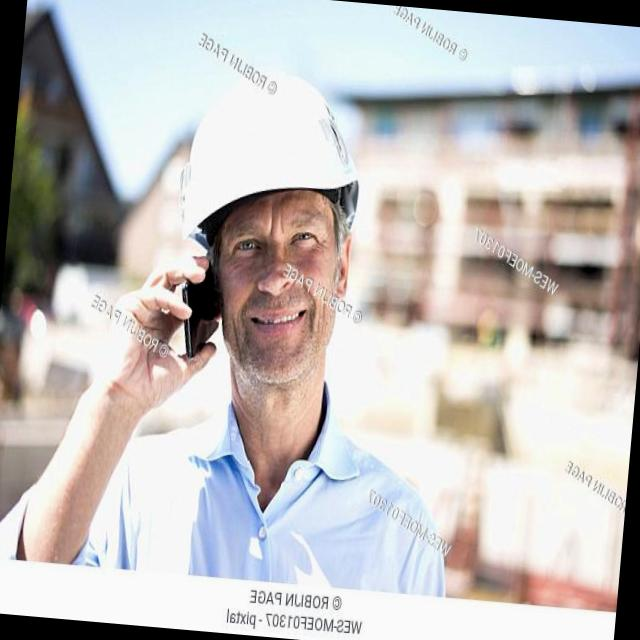helmet: (172, 62, 379, 259)
no-goggles: (188, 170, 358, 300)
